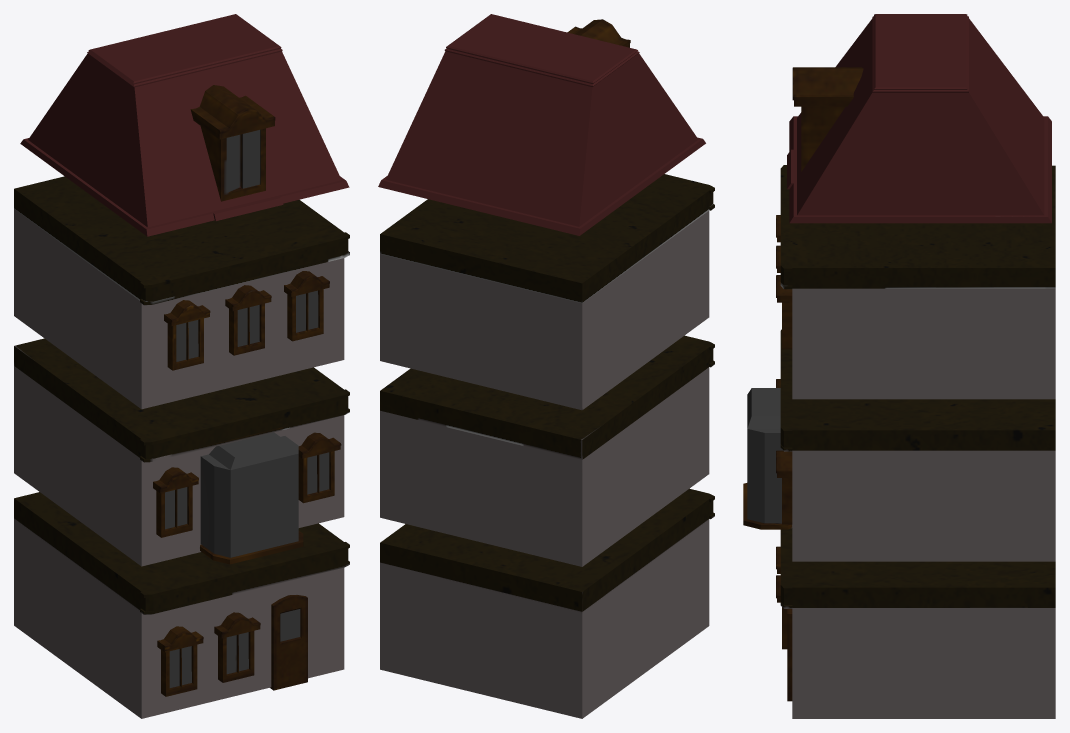
File: House3.fbx
3 views of the same model, side by side, from view 1: azimuth 30°, elevation 25°; view 2: azimuth 150°, elevation 25°; view 3: azimuth 270°, elevation 25° (orthographic). The views are drawn at different scales.
Parts seen in each view (by area): view 1: Cube.067, Cube.061, Cube.066, Cube.007; view 2: Cube.067, Cube.061, Cube.066, Cube.007; view 3: Cube.061, Cube.067, Cube.007, Cube.066.
Boxes of the visible parts, x1,y1,x2,y2 form: Cube.067: (14, 176, 349, 409); Cube.061: (14, 338, 349, 566); Cube.066: (14, 492, 349, 718); Cube.007: (20, 14, 349, 236); Cube.067: (380, 174, 714, 410); Cube.061: (380, 335, 714, 566); Cube.066: (380, 488, 714, 718); Cube.007: (378, 14, 705, 235); Cube.061: (743, 329, 1055, 561); Cube.067: (776, 165, 1055, 399); Cube.007: (787, 14, 1051, 223); Cube.066: (776, 528, 1055, 718).
Bounding box in the file's own units: 513 × 1417 × 646.
1 material, 1 textured.
